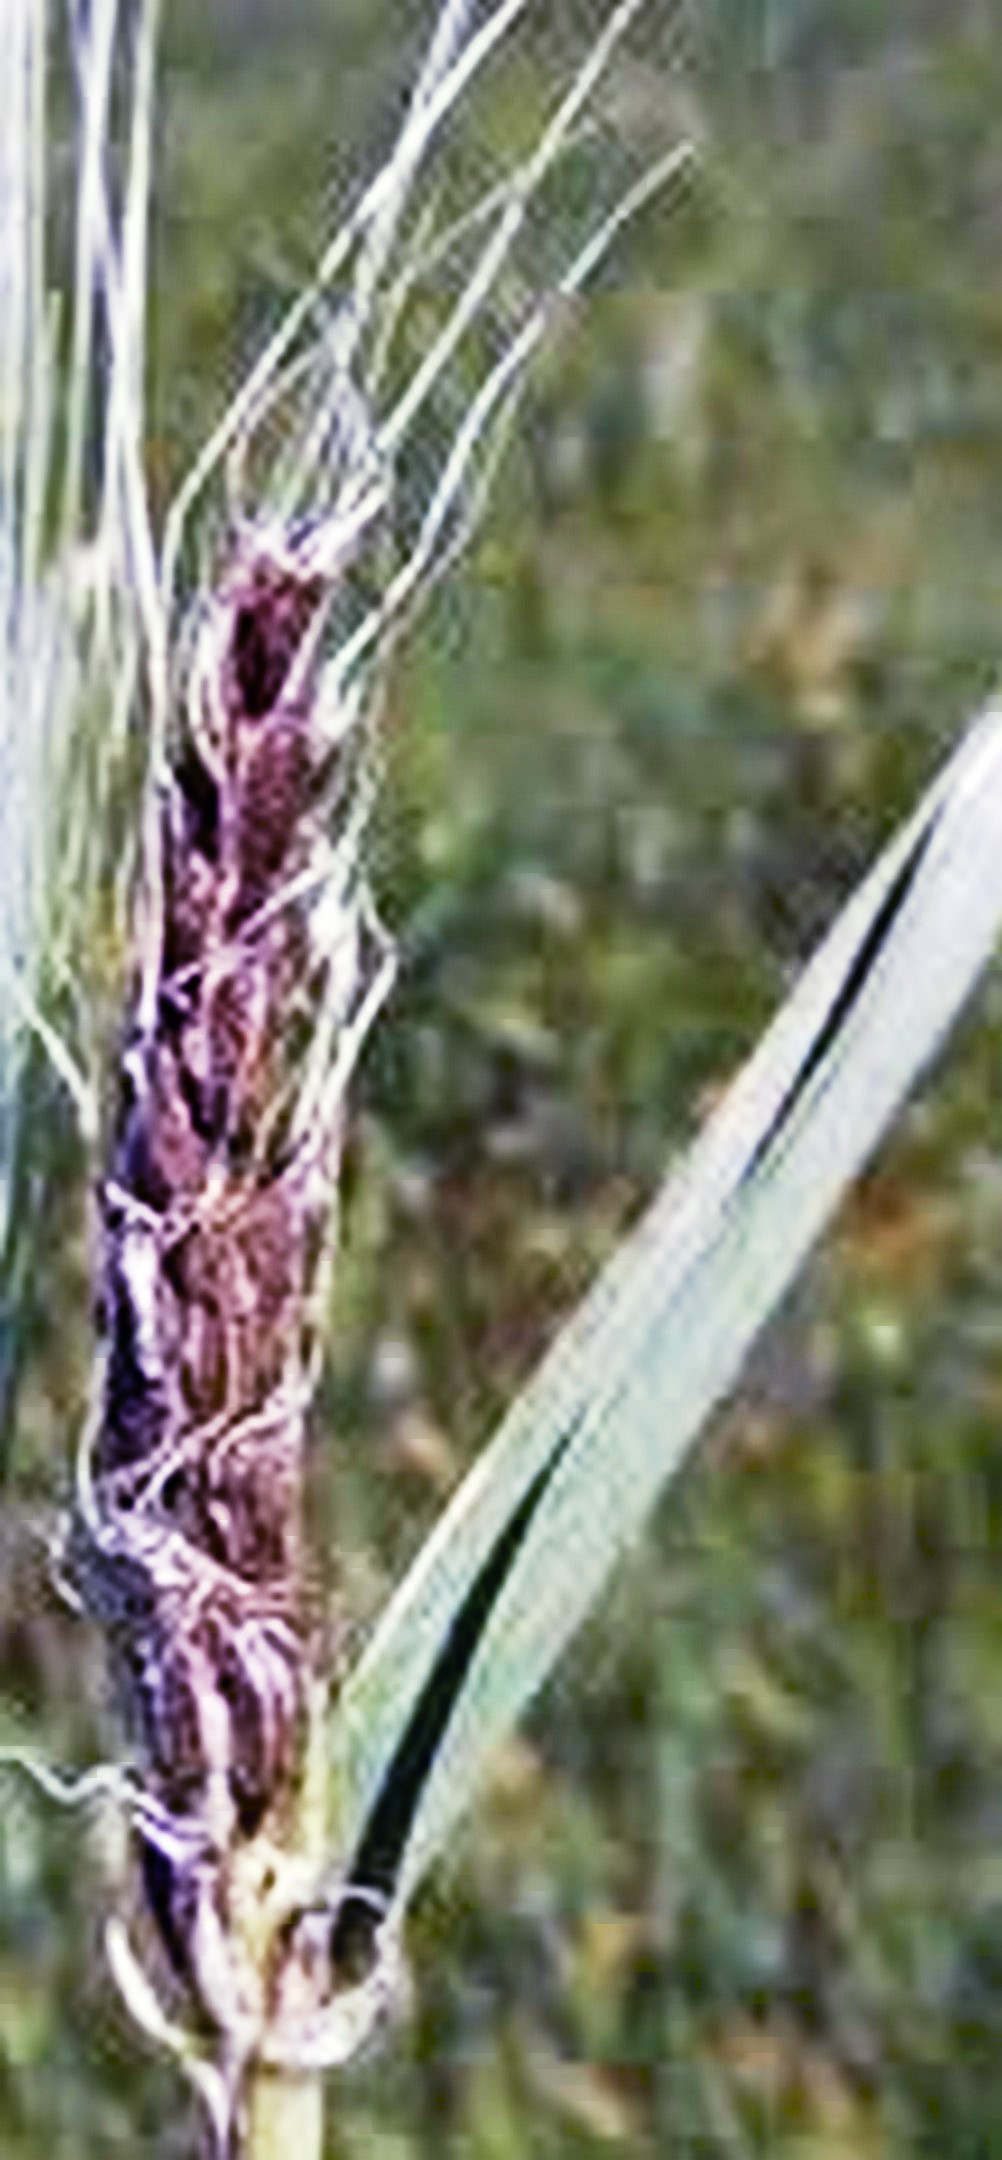Wheat Loose Smut: (45, 552, 400, 1835)
